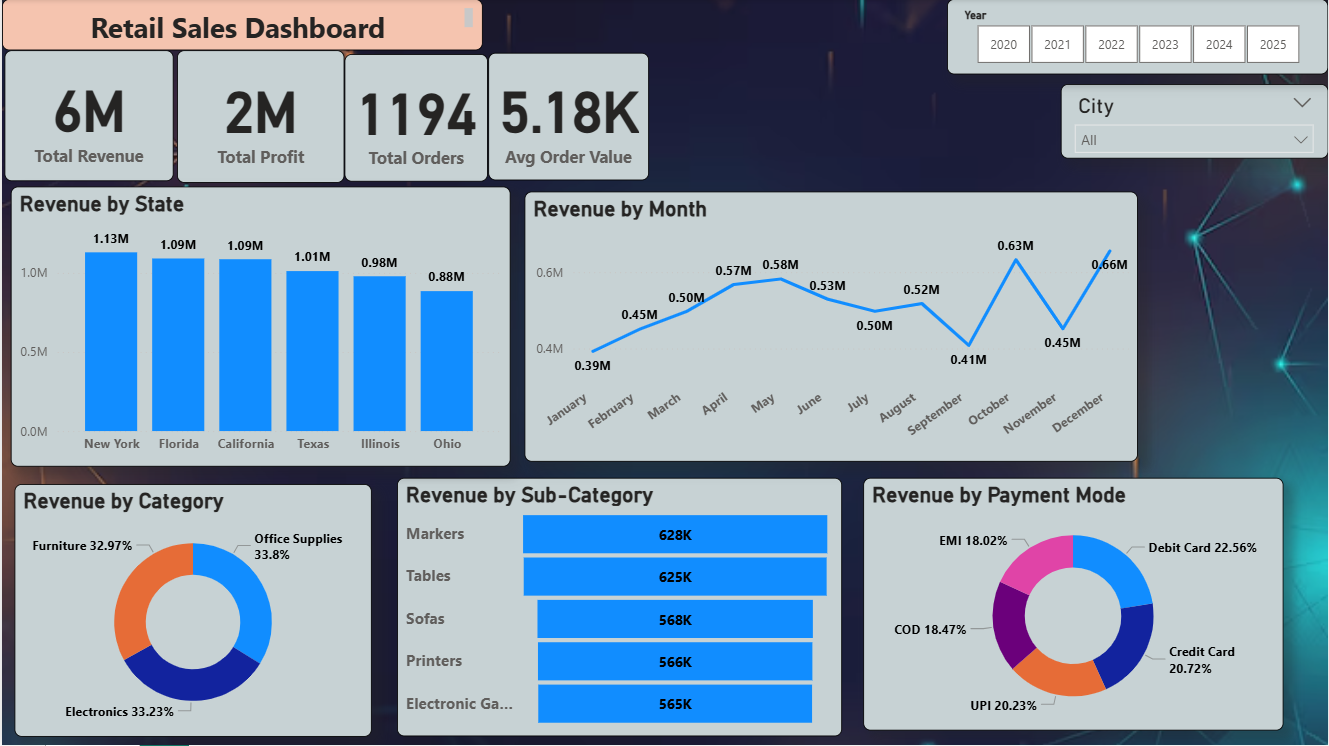

What the dashboard file says about the page in this screenshot:
{"tool":"powerbi","page":{"name":"Page 1","canvas":[1280,720],"ordinal":0},"visuals":[{"type":"textbox","box":[0,0,463.8,49.4],"z":0},{"type":"card","fields":{"Values":["Retail Sales Dataset.Total Orders"]},"box":[330.7,53.5,138.6,123.5],"z":1000},{"type":"card","fields":{"Values":["Retail Sales Dataset.Total Profit"]},"box":[168.8,49.4,161.9,127.6],"z":2000},{"type":"card","fields":{"Values":["Retail Sales Dataset.Total Revenue"]},"box":[2.7,49.4,163.3,126.2],"z":3000},{"type":"card","fields":{"Values":["Retail Sales Dataset.Avg Order Value"]},"box":[469.3,52.1,155.1,123.5],"z":4000},{"type":"funnel","title":"Revenue by Sub-Category","fields":{"Category":["Retail Sales Dataset.Sub-Category"],"Y":["Retail Sales Dataset.Total Revenue"]},"box":[381.2,462.1,429.5,249.7],"z":5000},{"type":"clusteredColumnChart","title":"Revenue by State","fields":{"Category":["Retail Sales Dataset.State"],"Y":["Retail Sales Dataset.Total Revenue"]},"box":[8.4,181,482.6,270.2],"z":6000},{"type":"lineChart","title":"Revenue by Month","fields":{"Y":["Retail Sales Dataset.Total Revenue"],"Category":["Retail Sales Dataset.Year-Month.Variation.Date Hierarchy.Month"]},"box":[504.3,185.8,592.4,260.6],"z":7000},{"type":"donutChart","title":"Revenue by Payment Mode","fields":{"Y":["Retail Sales Dataset.Total Revenue"],"Category":["Retail Sales Dataset.Payment Mode"]},"box":[831.2,462.1,405.4,243.7],"z":8000},{"type":"donutChart","title":"Revenue by Category","fields":{"Category":["Retail Sales Dataset.Category"],"Y":["Retail Sales Dataset.Total Revenue"]},"box":[12.1,468.1,345,243.7],"z":9000},{"type":"slicer","fields":{"Values":["Retail Sales Dataset.City"]},"box":[1021.9,91.7,258.2,72.4],"z":10000},{"type":"slicer","fields":{"Values":["Retail Sales Dataset.Year-Month.Variation.Date Hierarchy.Year"]},"box":[912.5,0,367.8,72.7],"z":11000}]}

Visuals, with their boxes in screenshot pixels (x1, y1, x2, y2), scaled from the page's 1280x720 canvas onto the 1329x746 screenshot:
textbox: bbox(0, 0, 482, 51)
card - Retail Sales Dataset.Total Orders: bbox(343, 55, 487, 183)
card - Retail Sales Dataset.Total Profit: bbox(175, 51, 343, 183)
card - Retail Sales Dataset.Total Revenue: bbox(3, 51, 172, 182)
card - Retail Sales Dataset.Avg Order Value: bbox(487, 54, 648, 182)
"Revenue by Sub-Category" funnel: bbox(396, 479, 842, 738)
"Revenue by State" clusteredColumnChart: bbox(9, 188, 510, 467)
"Revenue by Month" lineChart: bbox(524, 193, 1139, 463)
"Revenue by Payment Mode" donutChart: bbox(863, 479, 1284, 731)
"Revenue by Category" donutChart: bbox(13, 485, 371, 738)
slicer - Retail Sales Dataset.City: bbox(1061, 95, 1328, 170)
slicer - Retail Sales Dataset.Year-Month.Variation.Date Hierarchy.Year: bbox(947, 0, 1328, 75)
